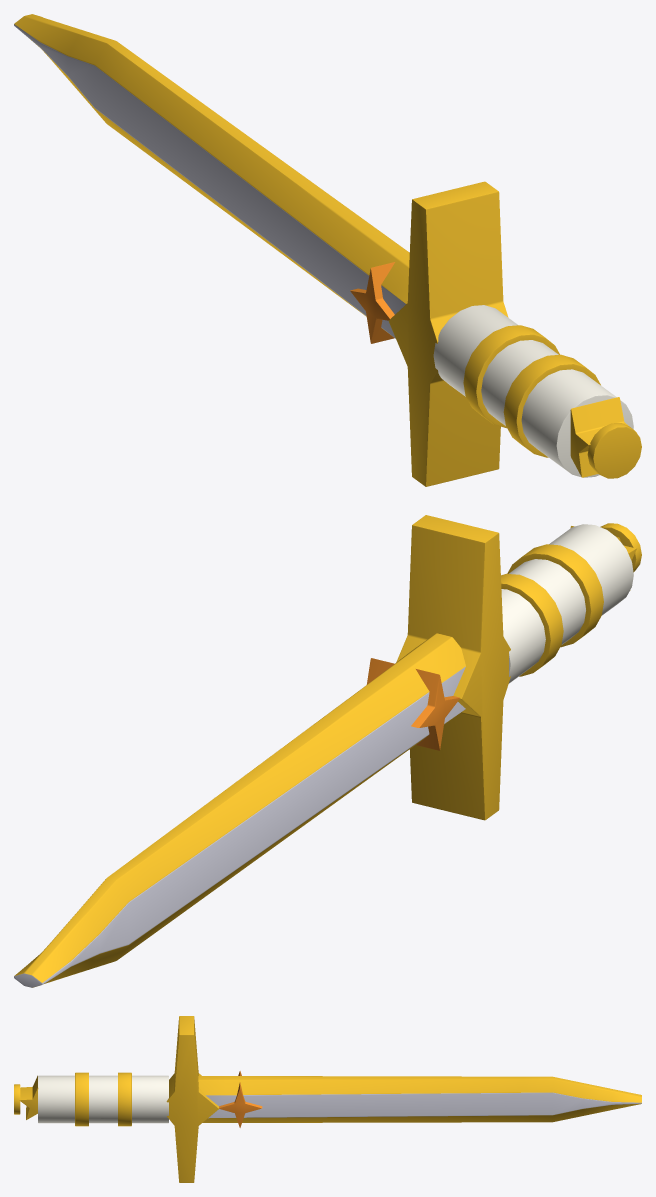
The model's file is Sword_StarlightShortsword.glb.
The picture shows the model from 3 angles, top to bottom: view 1: azimuth 30°, elevation 25°; view 2: azimuth 150°, elevation 25°; view 3: azimuth 270°, elevation 25°; orthographic projection. The views are drawn at different scales.
Visible parts, largest first — view 1: Sword_StarlightShortsword; view 2: Sword_StarlightShortsword; view 3: Sword_StarlightShortsword.
Part boxes in pixels (left/top/right/bottom): Sword_StarlightShortsword: left=14, top=14, right=641, bottom=486; Sword_StarlightShortsword: left=14, top=515, right=641, bottom=987; Sword_StarlightShortsword: left=14, top=1016, right=641, bottom=1182.
Size of the model in its own units: 0.086 by 0.26 by 1.
1 material, 1 textured.
